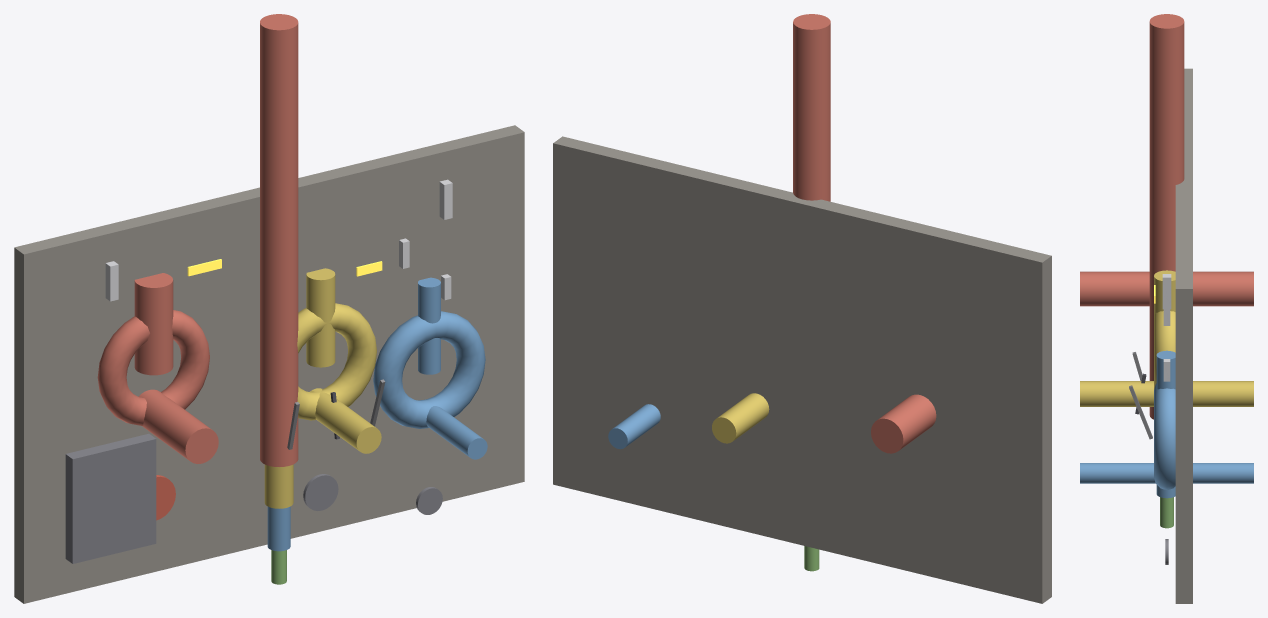
The model's file is subway_pipe_cluster.glb.
The picture shows the model from 3 angles, left to right: view 1: azimuth 30°, elevation 25°; view 2: azimuth 150°, elevation 25°; view 3: azimuth 270°, elevation 25°; orthographic projection. The views are drawn at different scales.
Parts seen in each view (by area): view 1: wall_back, pipe_red_h, junction_box, elbow_blue, elbow_red, elbow_yellow, drop_red, cont_red, drop_yellow, cont_yellow, drop_blue, cont_blue (+4 smaller); view 2: wall_back, pipe_red_h, cont_red, cont_yellow, cont_blue; view 3: pipe_red_h, wall_back, cont_red, cont_yellow, cont_blue, elbow_blue, elbow_yellow, drop_blue, drop_yellow, pipe_green_h, bracket_r_2, cable_3.
Boxes of the visible parts, x1,y1,x2,y2 form: wall_back: [14, 125, 524, 603]; pipe_red_h: [260, 14, 298, 466]; junction_box: [65, 433, 156, 563]; elbow_blue: [373, 311, 485, 428]; elbow_red: [97, 310, 209, 425]; elbow_yellow: [297, 303, 376, 420]; drop_red: [134, 273, 173, 375]; cont_red: [138, 389, 218, 463]; drop_yellow: [306, 268, 335, 367]; cont_yellow: [310, 388, 381, 453]; drop_blue: [418, 277, 440, 374]; cont_blue: [426, 406, 487, 459]; wall_back: [553, 136, 1051, 603]; pipe_red_h: [793, 14, 830, 201]; cont_red: [871, 394, 936, 453]; cont_yellow: [712, 393, 769, 443]; cont_blue: [608, 404, 660, 449]; pipe_red_h: [1149, 14, 1184, 419]; wall_back: [1175, 68, 1192, 603]; cont_red: [1080, 271, 1253, 306]; cont_yellow: [1080, 381, 1253, 406]; cont_blue: [1080, 463, 1253, 483]; elbow_blue: [1154, 383, 1175, 489]; elbow_yellow: [1154, 311, 1175, 389]; drop_blue: [1156, 350, 1175, 389]; drop_yellow: [1154, 270, 1175, 315]; pipe_green_h: [1160, 497, 1173, 528]; bracket_r_2: [1162, 274, 1171, 309]; cable_3: [1129, 385, 1152, 439].
Size of the model in its own units: 6 by 6.4 by 2.
